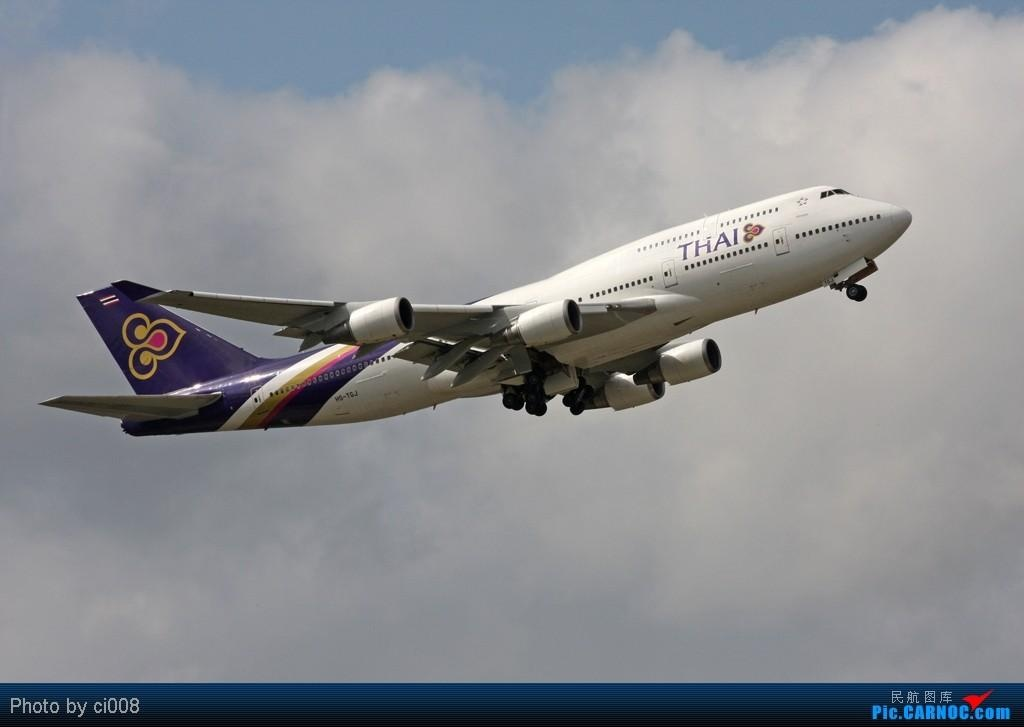airplane: (32, 180, 917, 468)
